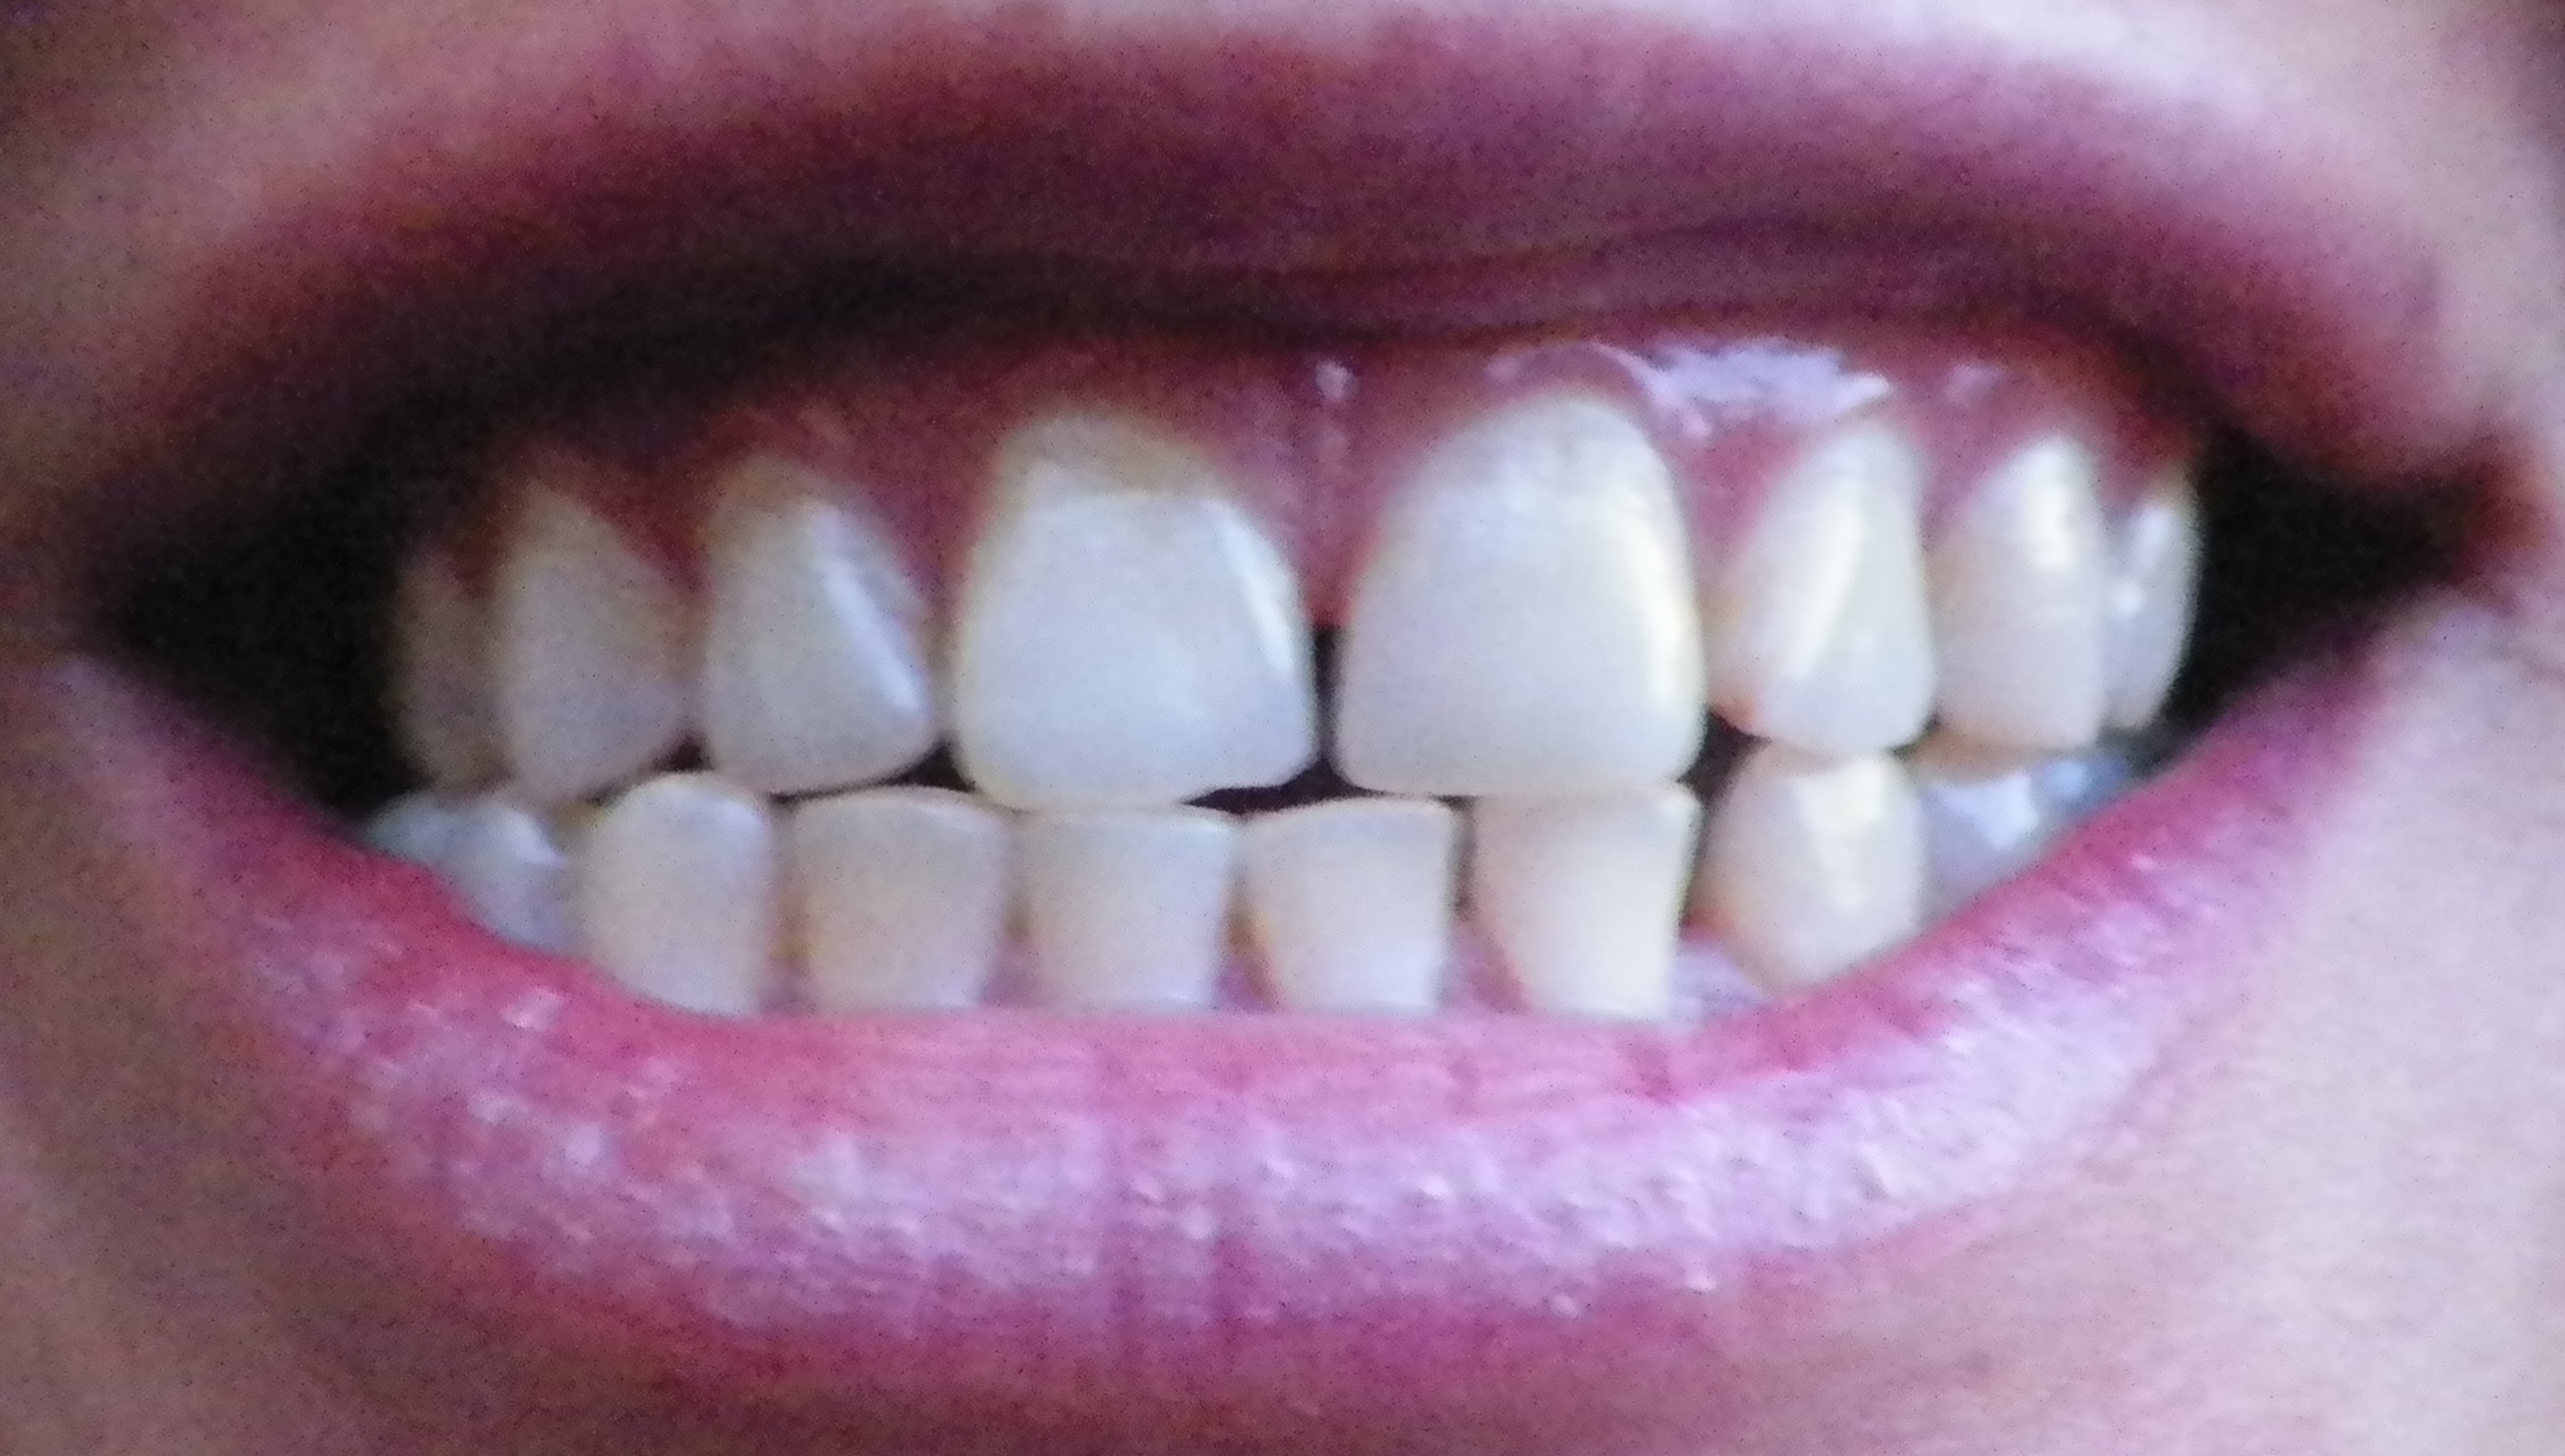boca: (359, 432, 2174, 999)
